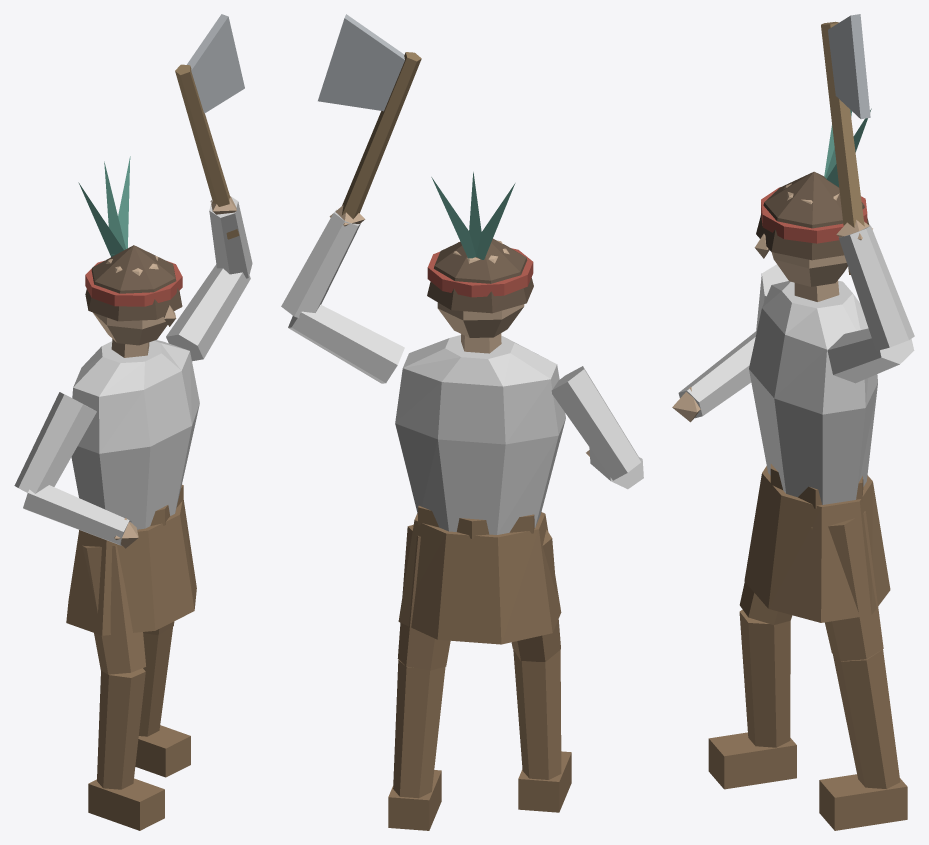
Rendered from mohawk-warrior.glb.
3 renders of one model, left to right at view 1: azimuth 30°, elevation 25°; view 2: azimuth 150°, elevation 25°; view 3: azimuth 270°, elevation 25°, orthographic. The views are drawn at different scales.
Parts seen in each view (by area): view 1: LOD0; view 2: LOD0; view 3: LOD0.
Part boxes in pixels (x1,y1,x2,y2): LOD0: (14,14,252,830); LOD0: (281,14,643,830); LOD0: (672,14,914,830).
Size of what is drawn, in the model's own units: 0.5368 by 1.32 by 0.3451.
